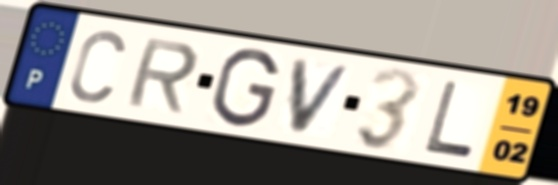3: (353, 65, 429, 152)
C: (66, 26, 128, 105)
G: (209, 46, 283, 129)
L: (421, 78, 478, 161)
R: (122, 36, 203, 116)
V: (287, 56, 358, 137)
